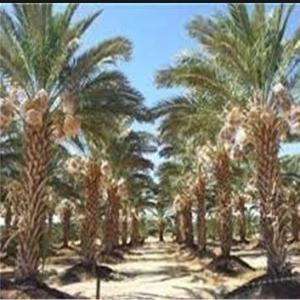palm tree: (0, 2, 144, 284), (153, 2, 299, 280)
